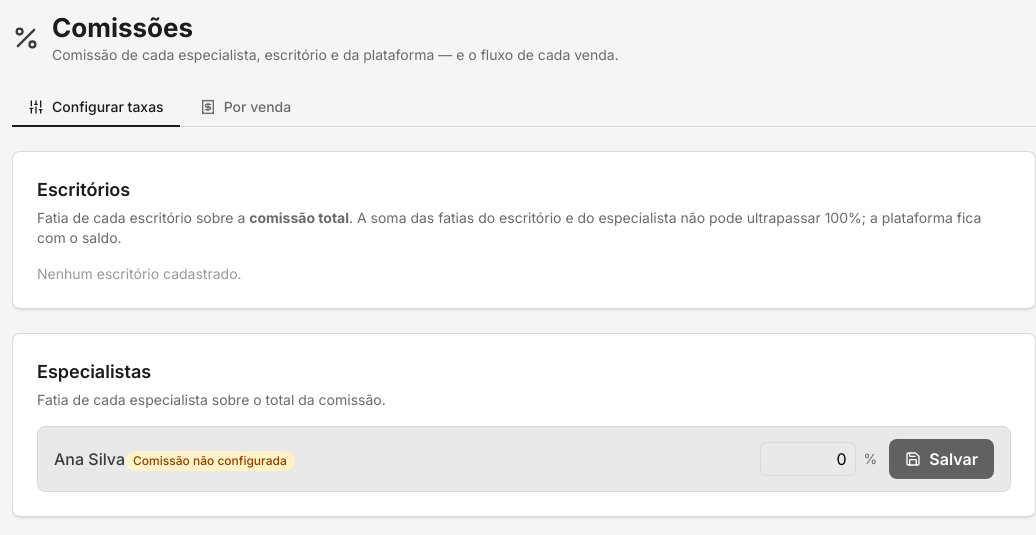
CommissionsPage › permite salvar zero e remove a flag de comissão nula
This screenshot has width=1036, height=535.
Expected: the text "Comissão não configurada" is shown, [125, 450, 295, 470]
Click the button "Salvar": (942, 458) [889, 438, 994, 478]
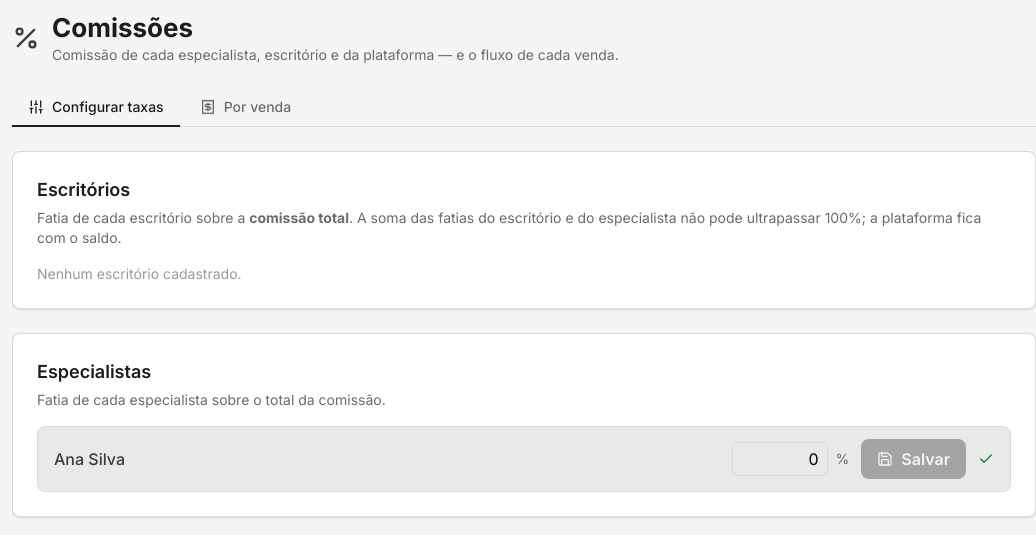
Result: the text "Comissão não configurada" is gone
